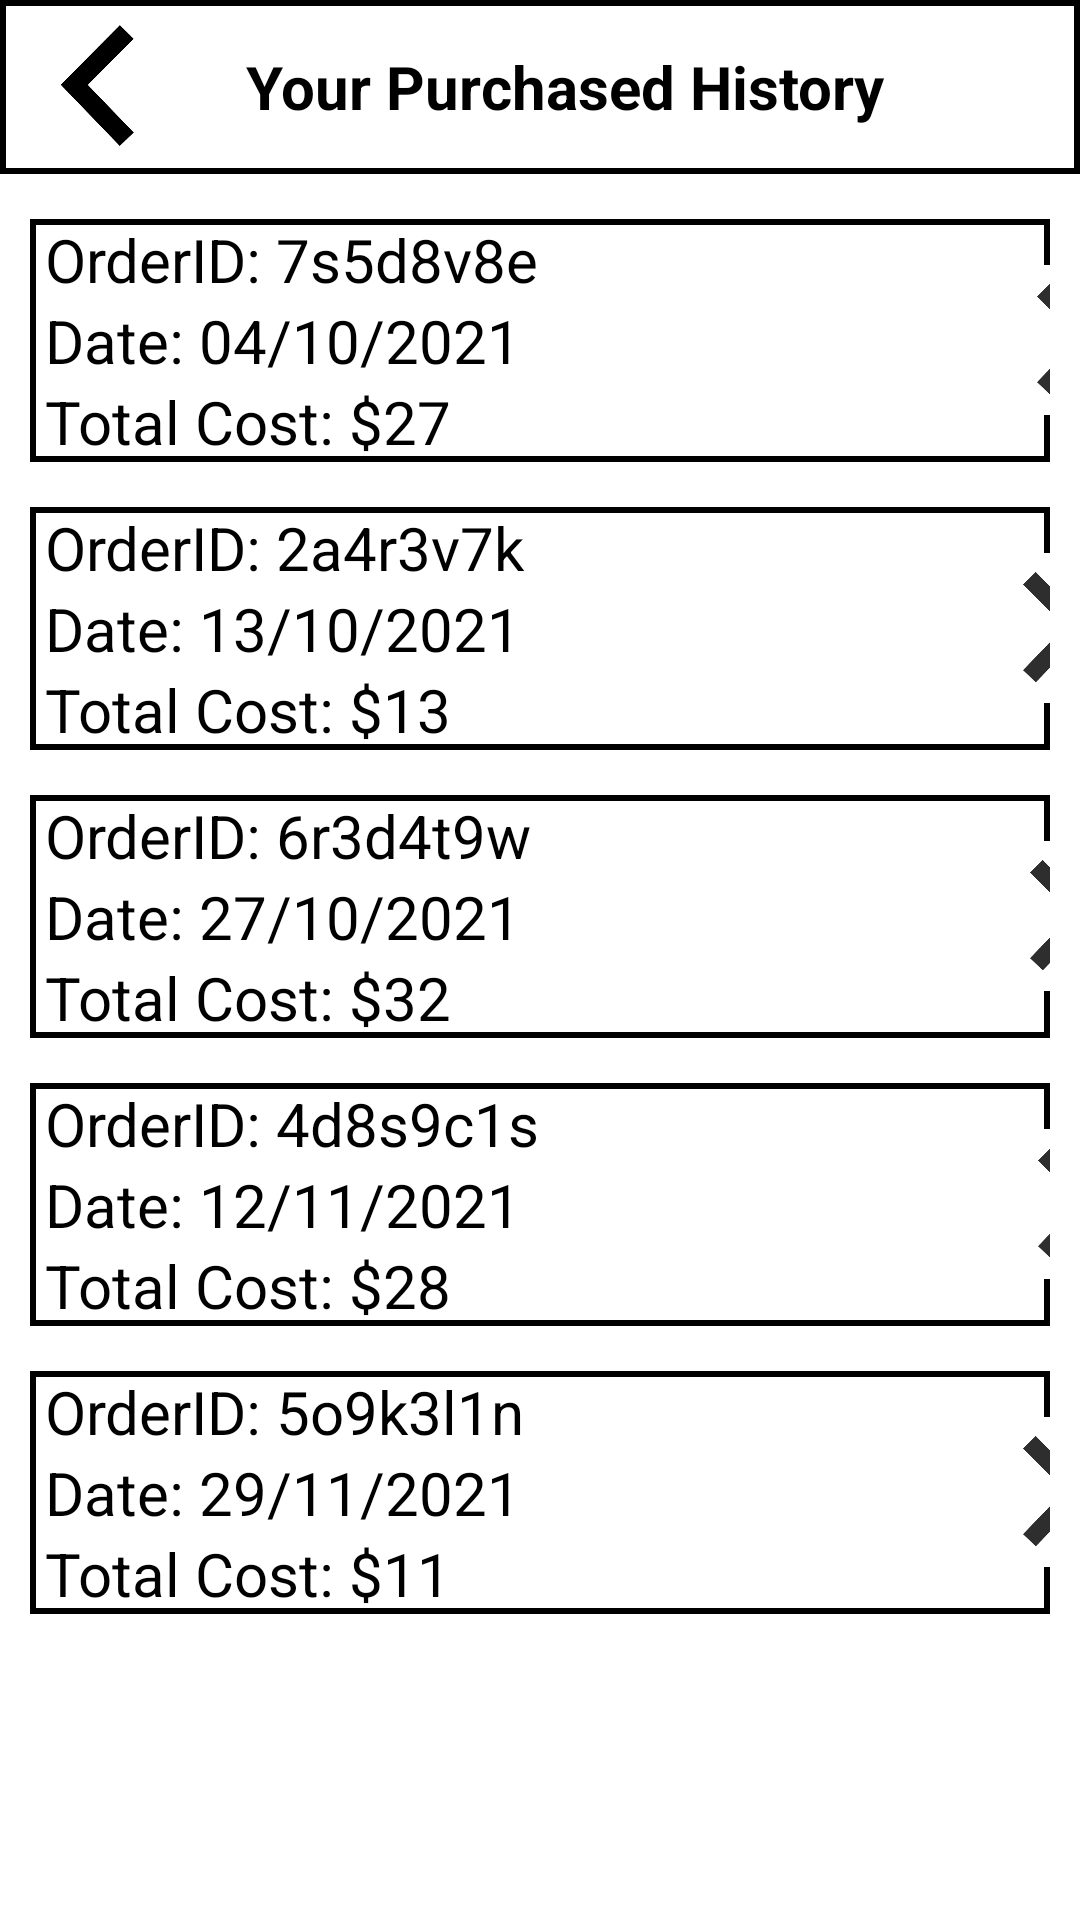

Named icons in this screenshot (1080*1920) and their centers, (x=x, y=y):
back: (x=97, y=85)
